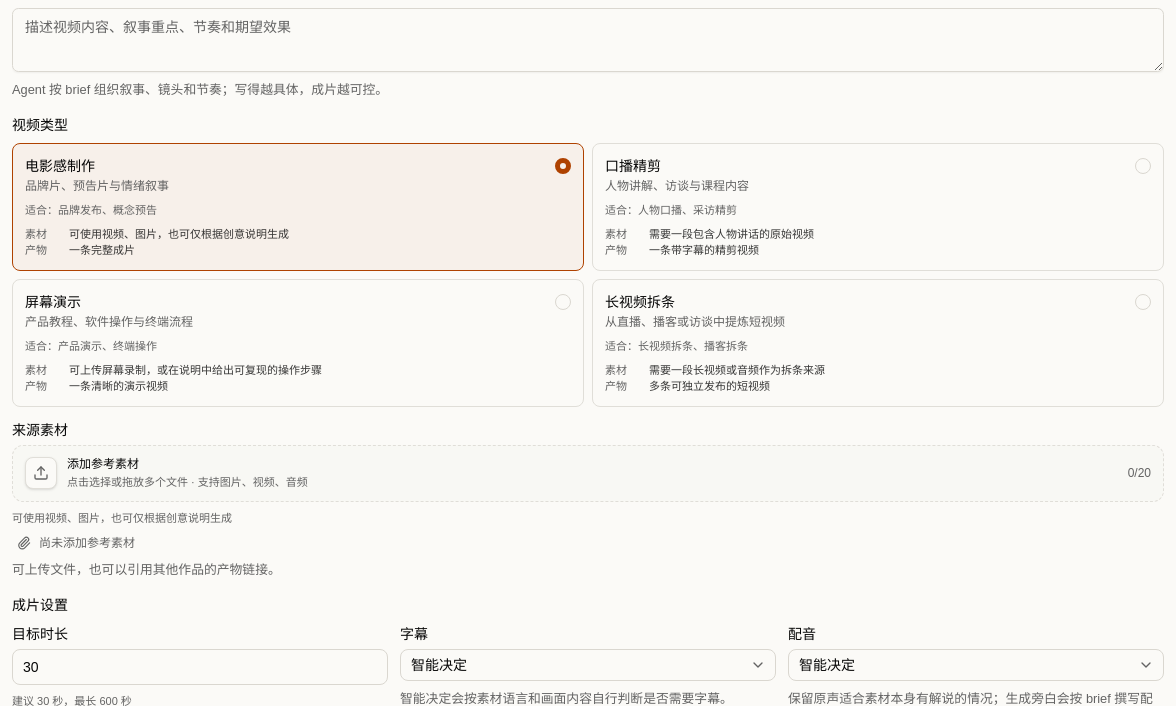
Test: MontageCreationPanel › serializes product subtitle and voice choices and keeps advanced requirements collapsed
Expected: the radio button labelled "电影感制作" is checked, [12,143,584,271]
Expected: the field labelled "风格偏好" is not shown
Select "烧录字幕" in the dropdown named "字幕" at (588, 665), box [400,649,776,681]
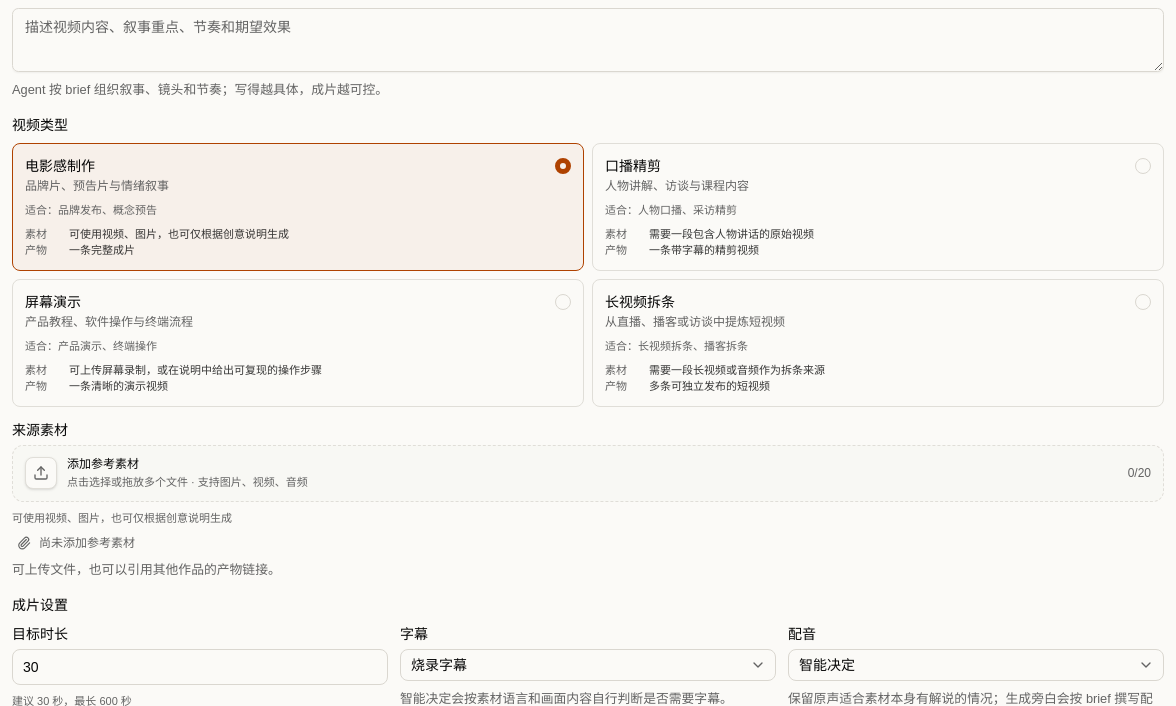
Select "生成旁白" in the dropdown named "配音" at (976, 665), box [788,649,1164,681]
(page scrolled)
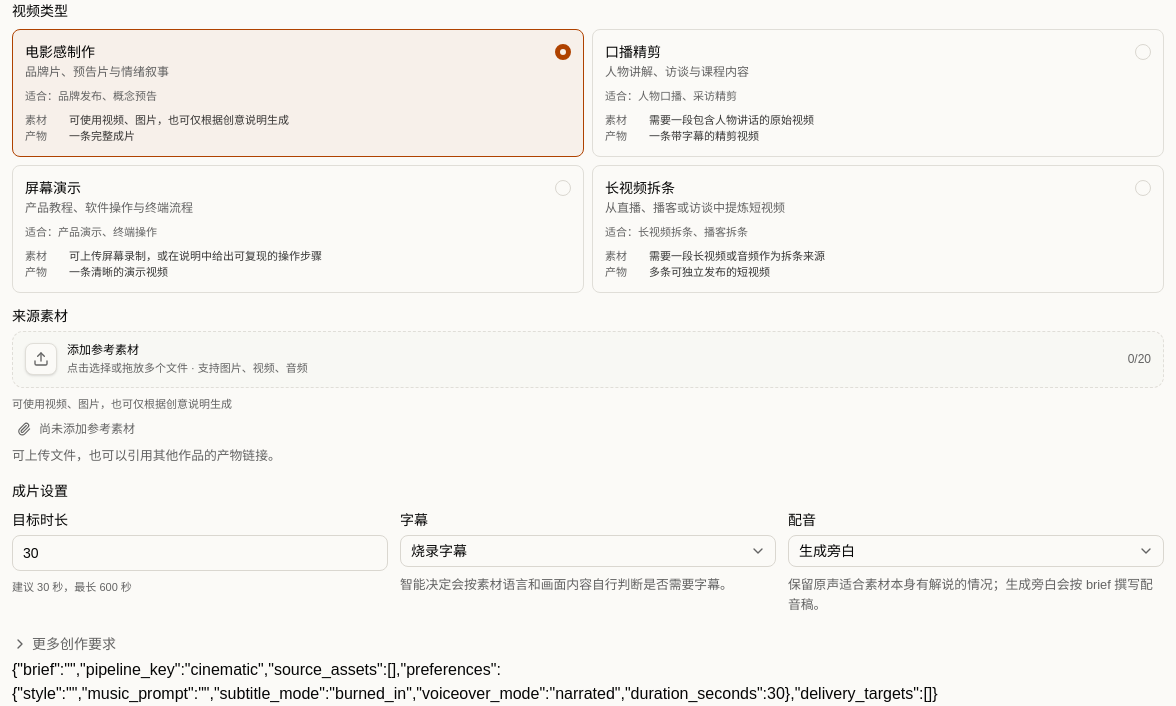
Click the button "更多创作要求".
click(74, 644)  # box [12,630,1164,658]
(page scrolled)
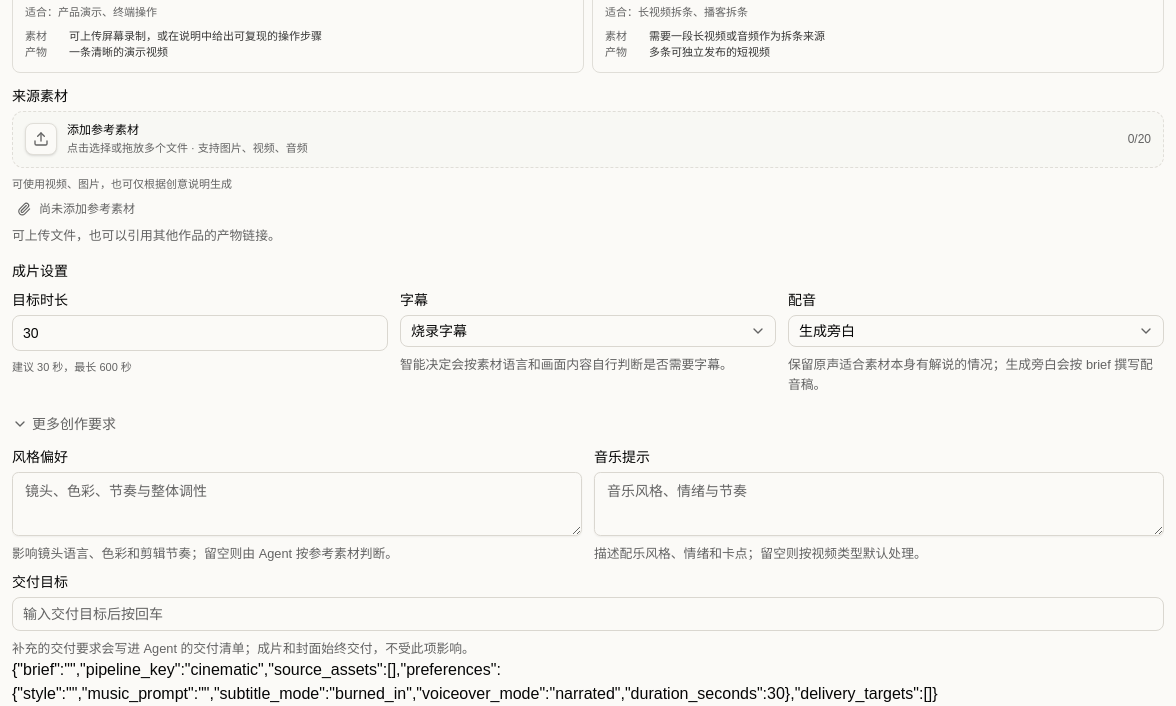
Type "干净克制" into the text box named "风格偏好".
click(297, 504); type("干净克制")  # box [12,472,582,536]
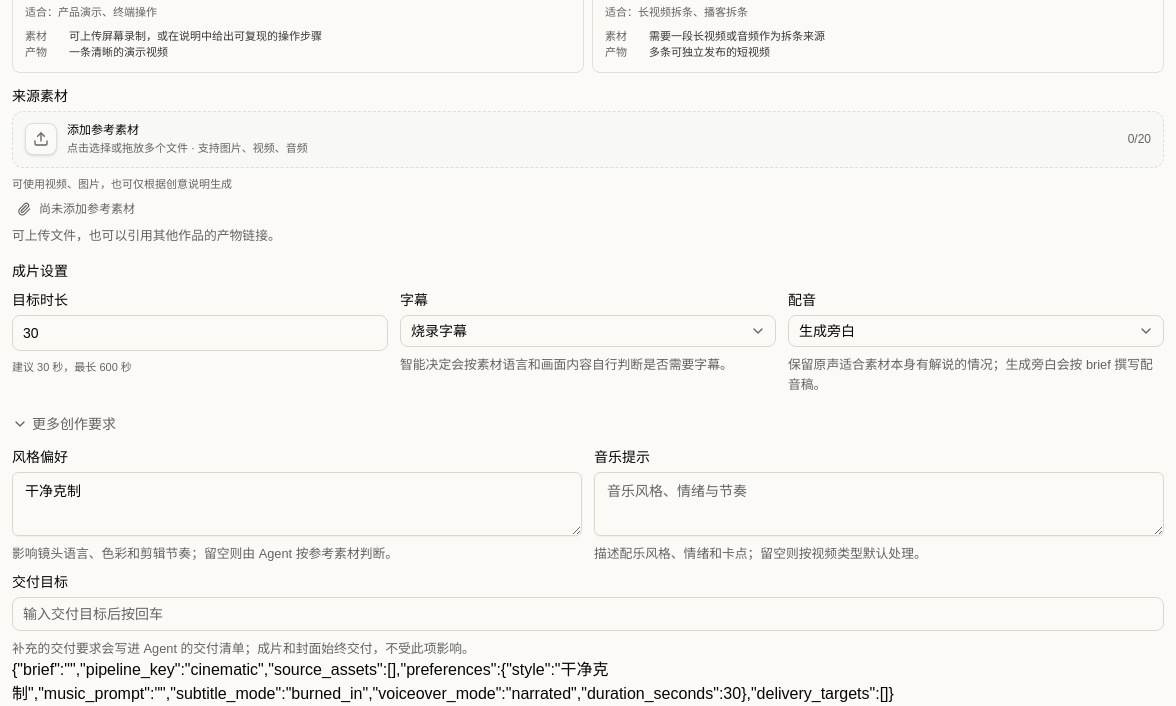
Expected: the text with test id "montage-input" shows "\"subtitle_mode\":\"burned_in\"", [12,661,894,702]
Expected: the text with test id "montage-input" shows "\"voiceover_mode\":\"narrated\"", [12,661,894,702]
Expected: the text with test id "montage-input" shows "\"style\":\"干净克制\"", [12,661,894,702]
